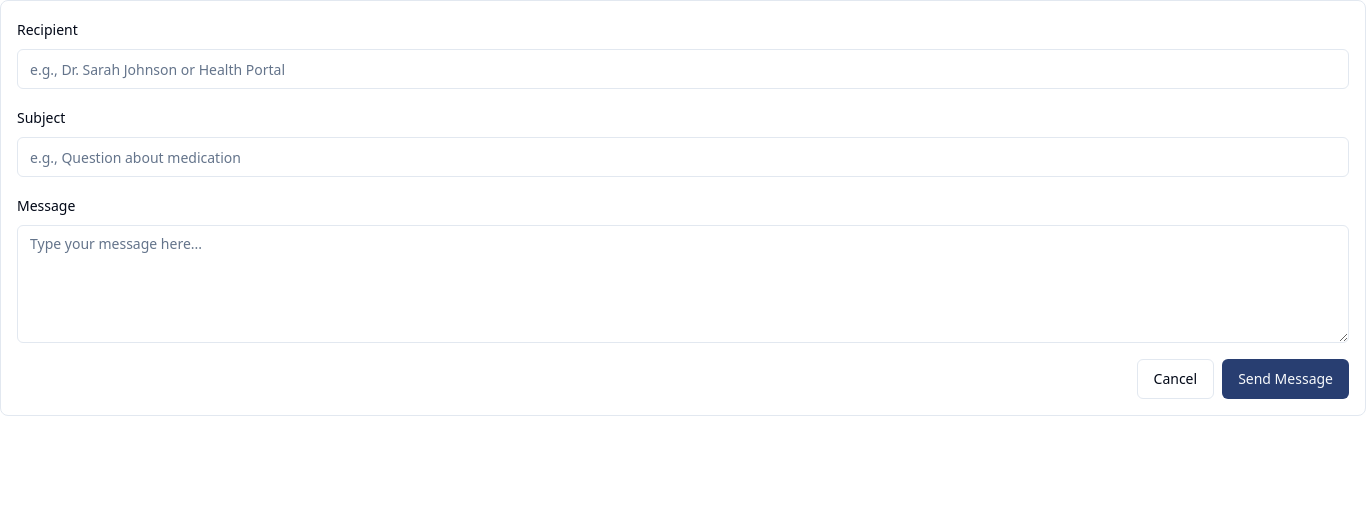
NewMessageForm › shows validation errors for required fields
The width and height of the screenshot is (1366, 517).
Click the button "Send Message".
click(1286, 379)  # box [1222, 359, 1349, 399]
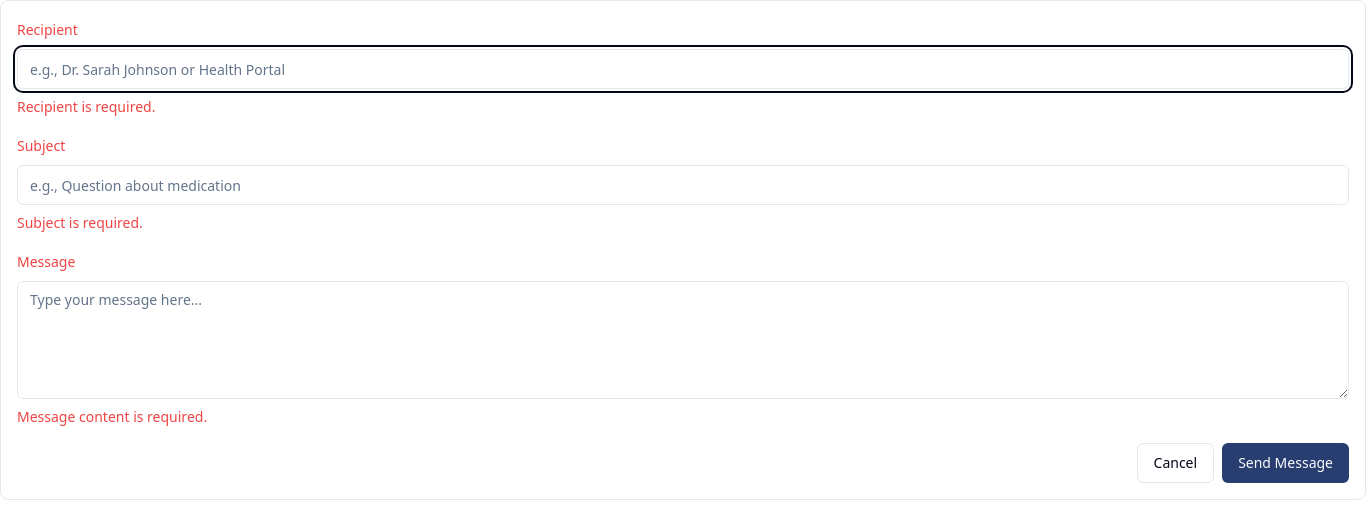
Expected: the text "Recipient is required." is shown, [17, 97, 155, 116]
Expected: the text "Subject is required." is shown, [17, 213, 143, 232]
Expected: the text "Message content is required." is shown, [17, 407, 207, 426]
